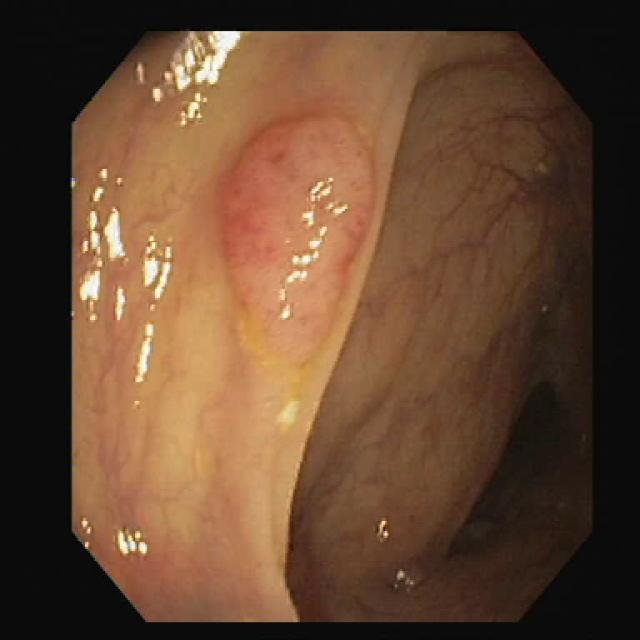tumor: (223, 116, 370, 356)
